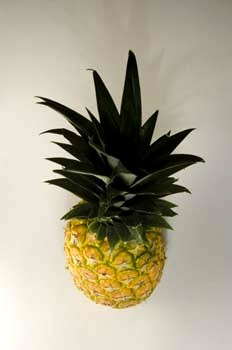pineapple: (32, 46, 209, 309)
